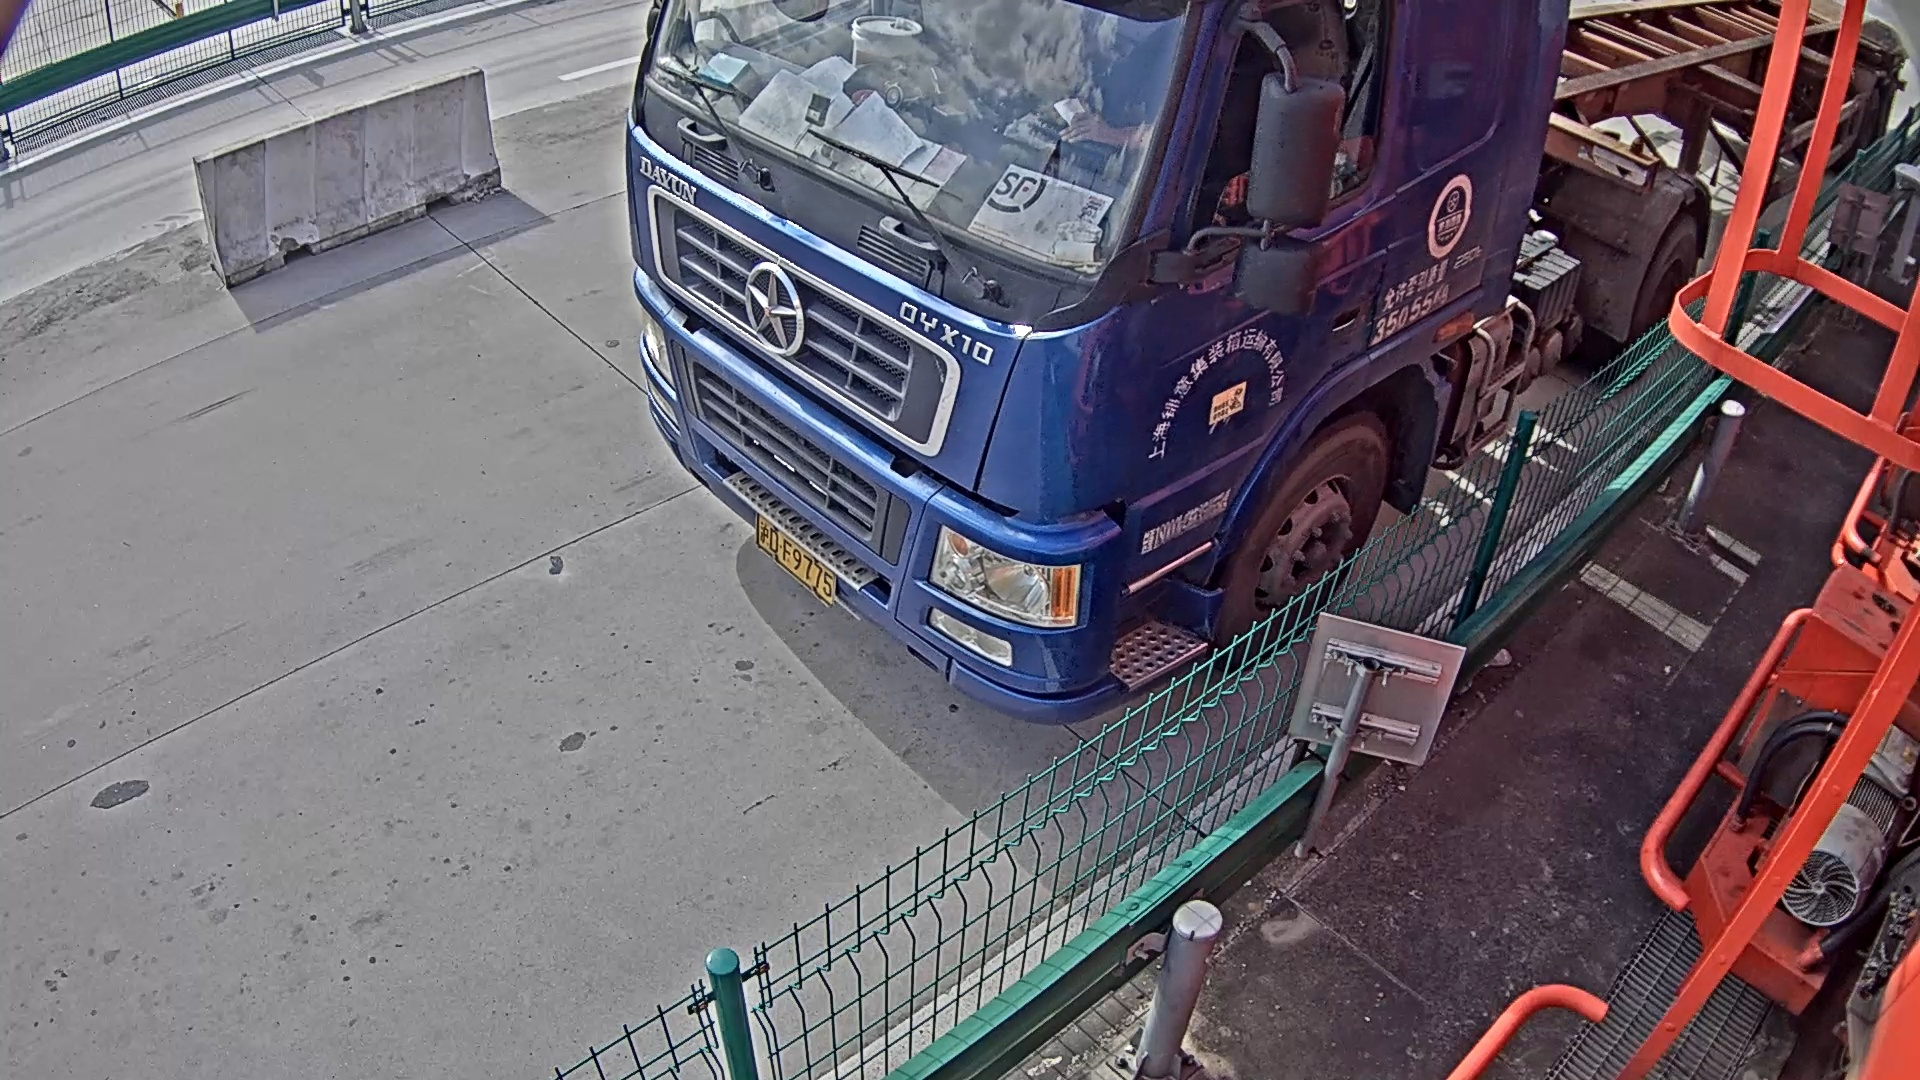head: (622, 1, 1579, 695)
plate: (754, 509, 837, 612)
